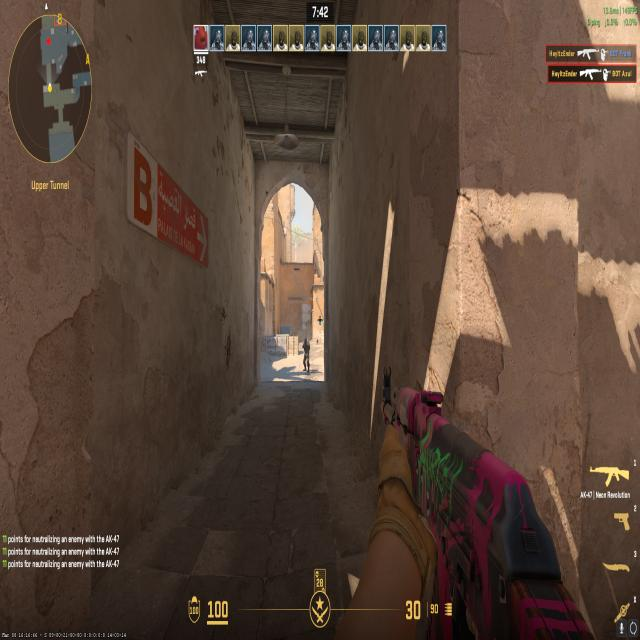ct: (301, 335, 311, 373)
